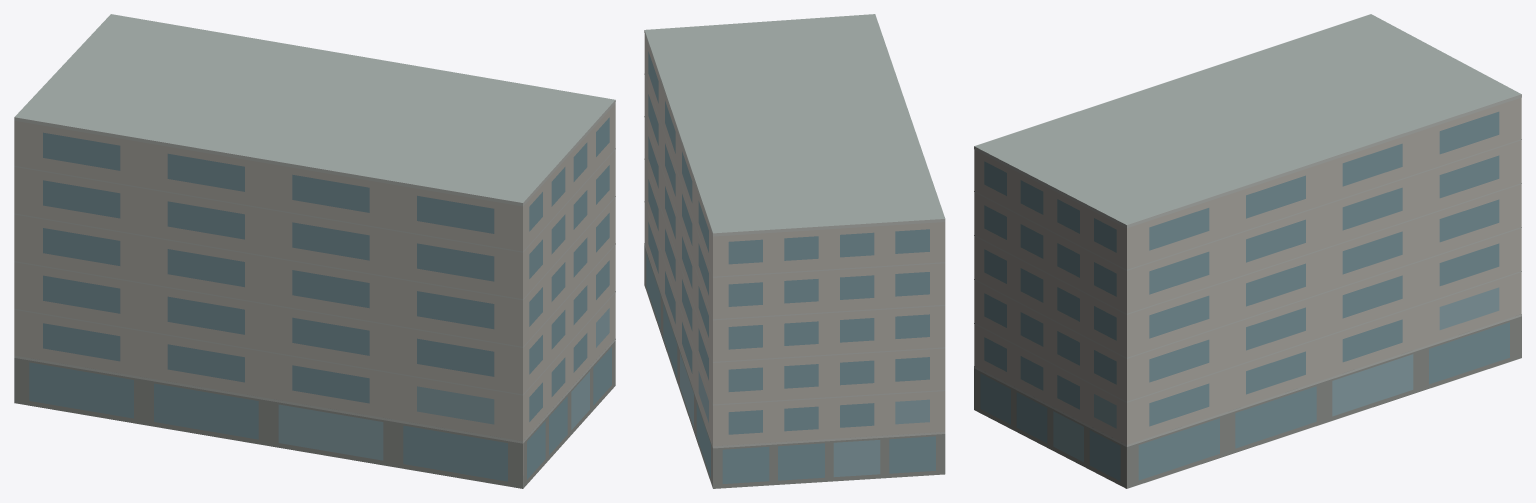
File: survey-upis-32683244.glb
3 views of the same model, side by side, from view 1: azimuth 30°, elevation 25°; view 2: azimuth 150°, elevation 25°; view 3: azimuth 270°, elevation 25° (orthographic). The views are drawn at different scales.
Parts seen in each view (by area): view 1: survey-upis-32683244.tmp; view 2: survey-upis-32683244.tmp; view 3: survey-upis-32683244.tmp.
Part boxes in pixels (x1,y1,x2,y2): survey-upis-32683244.tmp: [14, 14, 615, 488]; survey-upis-32683244.tmp: [644, 14, 945, 488]; survey-upis-32683244.tmp: [974, 14, 1521, 488].
Size of the model in its own units: 34.08 by 19.84 by 37.35.
